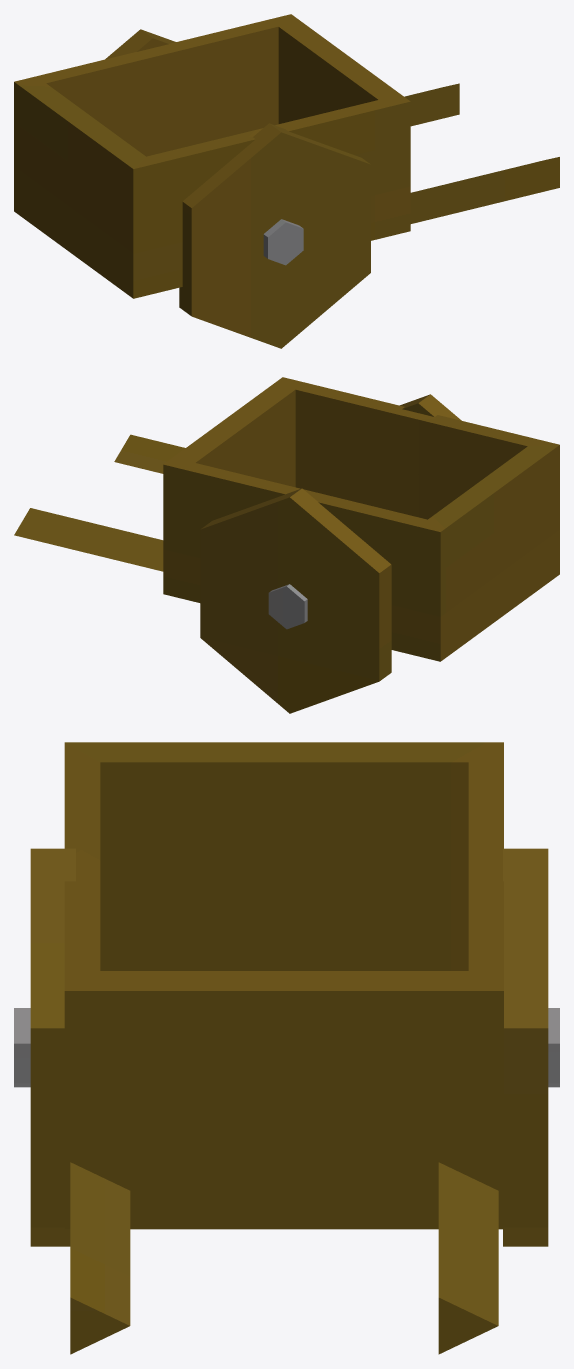
File: telega.glb
3 views of the same model, one above another, from view 1: azimuth 30°, elevation 25°; view 2: azimuth 150°, elevation 25°; view 3: azimuth 270°, elevation 25° (orthographic). The views are drawn at different scales.
Visible parts, largest first — view 1: Cylinder.005; view 2: Cylinder.005; view 3: Cylinder.005.
Part boxes in pixels (<box>): Cylinder.005: <box>14,14,559,348</box>; Cylinder.005: <box>14,377,559,713</box>; Cylinder.005: <box>14,742,559,1354</box>.
Size of the model in its own units: 4.14 by 2 by 2.49.
3 materials, 3 textured.
